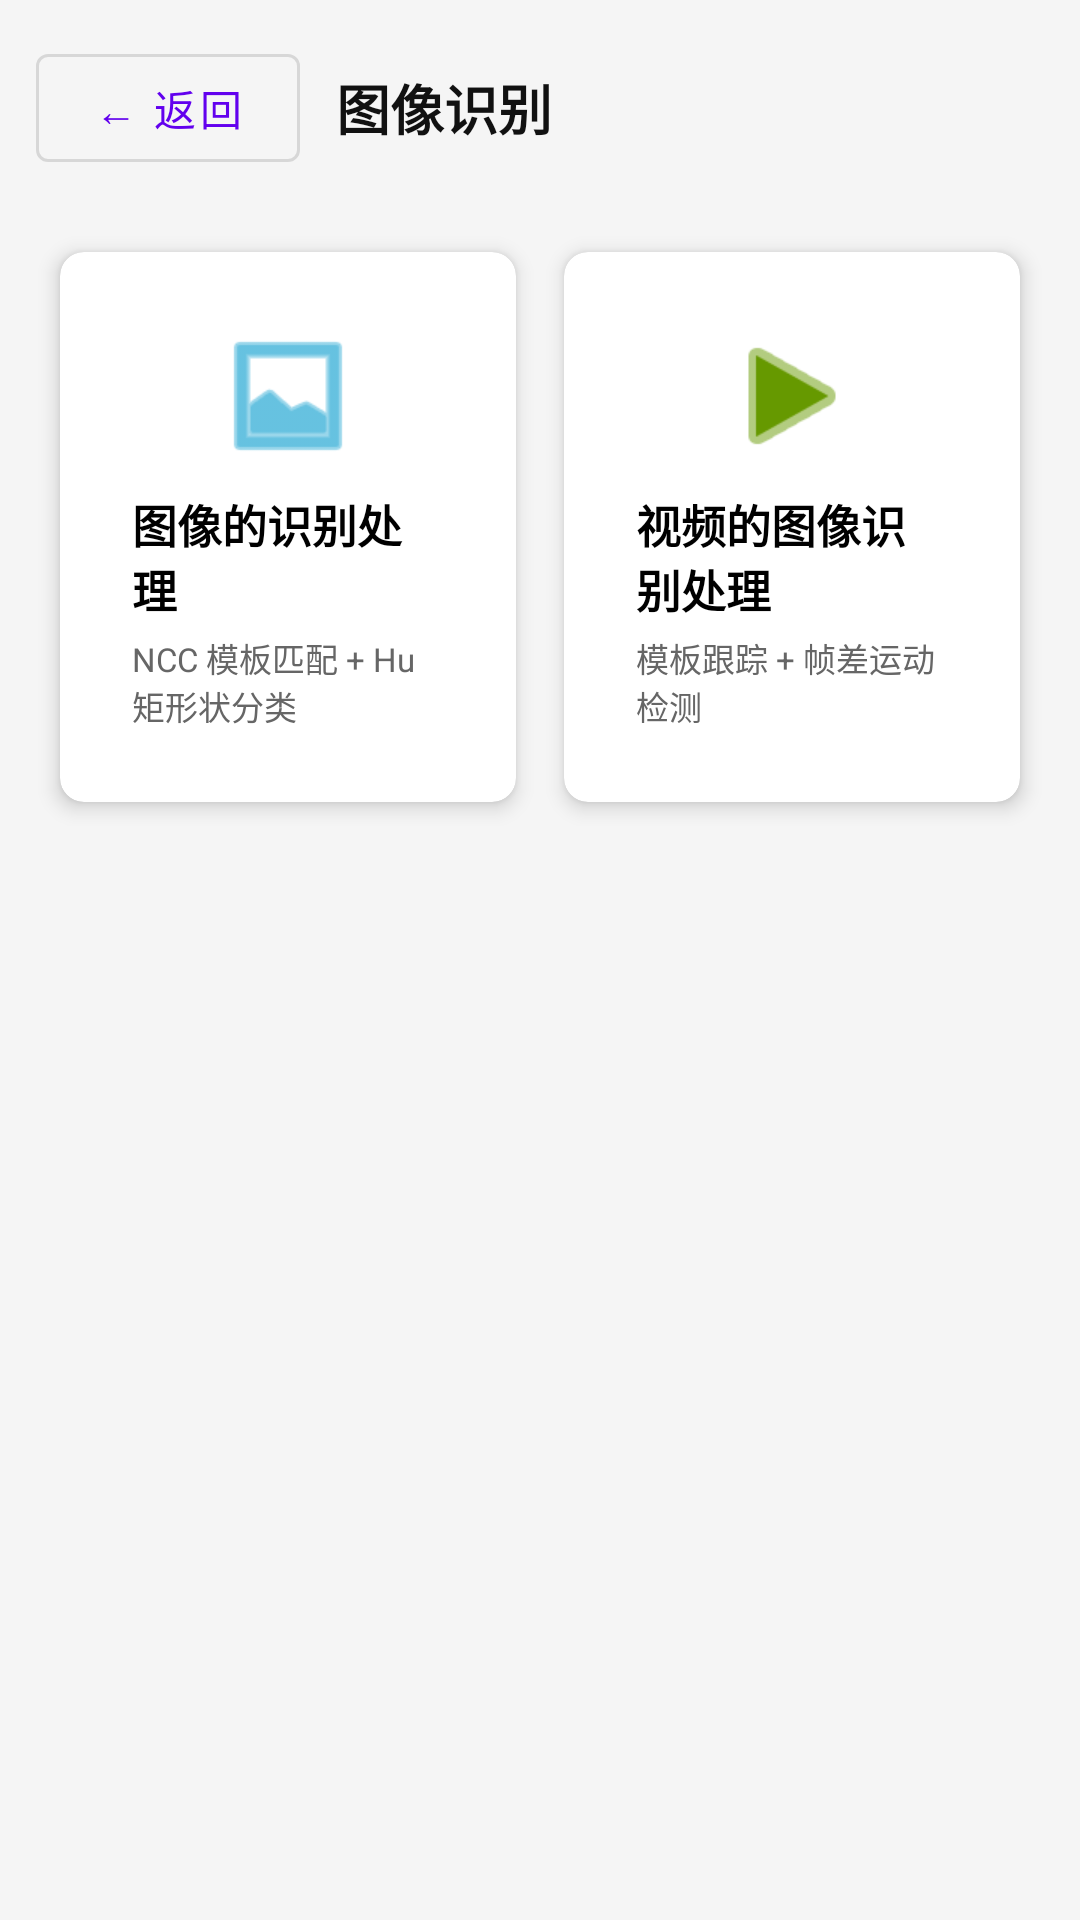

Named icons in this screenshot (1080 × 1920) and their bounding boxes, (x1, y1, x2, y2):
图像识别入口: (234, 342, 342, 450)
视频识别入口: (748, 348, 836, 444)
